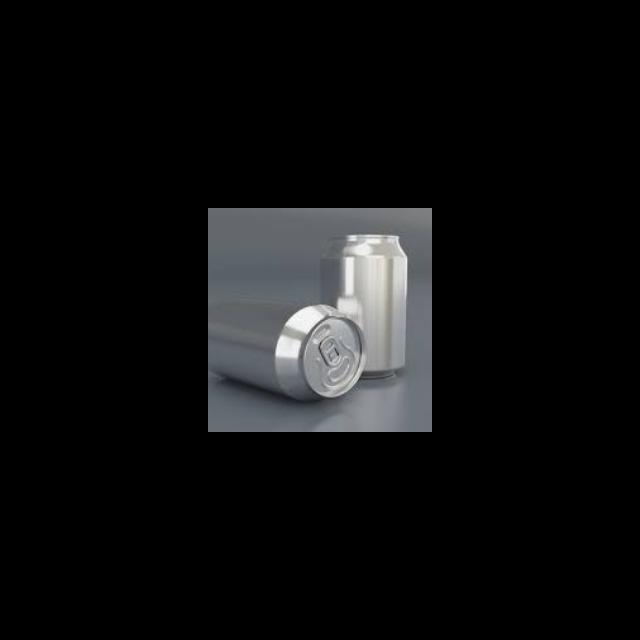metal: (208, 279, 372, 422), (311, 225, 418, 386)
